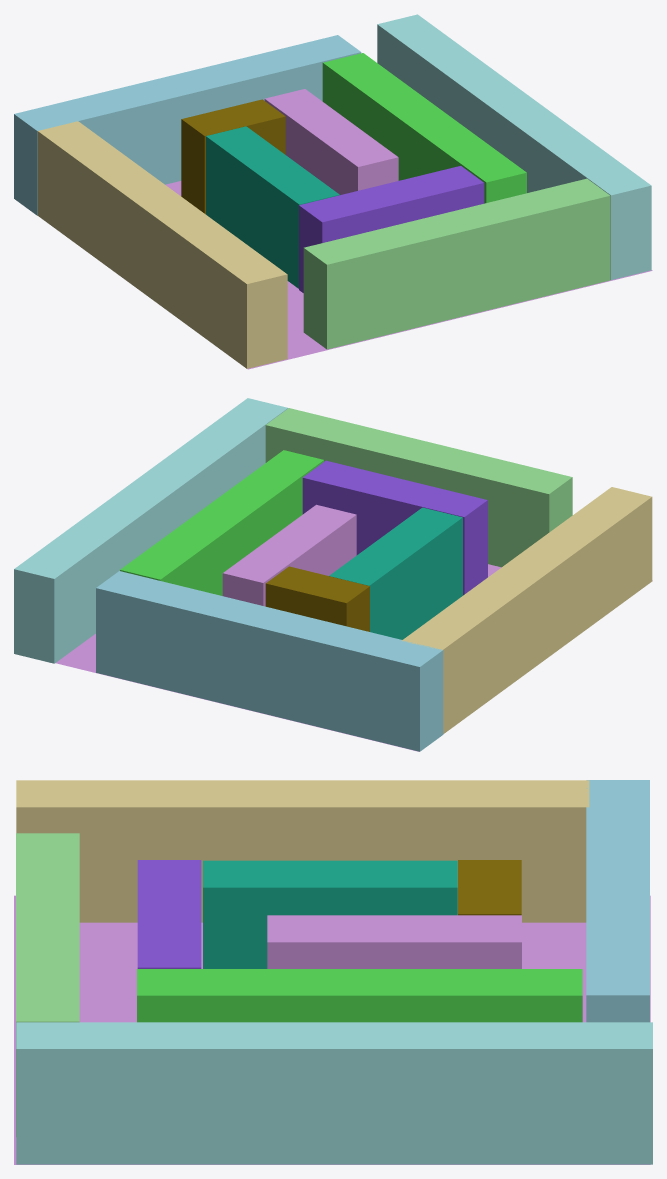
File: fullMaze.obj
3 views of the same model, one above another, from view 1: azimuth 30°, elevation 25°; view 2: azimuth 150°, elevation 25°; view 3: azimuth 270°, elevation 25° (orthographic). The views are drawn at different scales.
Visible parts, largest first — view 1: wallSouth, wallWest, wallEast, wallNorth, wallInner1, WallInner3, wallInner2, wallInner5, WallInner4, floor; view 2: wallNorth, wallWest, wallEast, wallSouth, wallInner1, WallInner3, wallInner2, wallInner5, WallInner4, floor; view 3: wallEast, wallWest, wallInner1, WallInner3, wallNorth, wallInner5, wallSouth, floor, wallInner2, WallInner4.
Part boxes in pixels (left/top/right/bottom): wallSouth: left=303, top=178, right=610, bottom=349; wallWest: left=37, top=121, right=287, bottom=368; wallEast: left=377, top=14, right=651, bottom=279; wallNorth: left=14, top=35, right=361, bottom=215; wallInner1: left=322, top=53, right=526, bottom=203; WallInner3: left=206, top=126, right=339, bottom=288; wallInner2: left=299, top=166, right=484, bottom=292; wallInner5: left=264, top=89, right=398, bottom=194; WallInner4: left=181, top=99, right=285, bottom=214; floor: left=165, top=181, right=652, bottom=369; wallNorth: left=96, top=571, right=443, bottom=751; wallWest: left=401, top=487, right=652, bottom=733; wallEast: left=14, top=398, right=288, bottom=663; wallSouth: left=265, top=408, right=572, bottom=567; wallInner1: left=120, top=450, right=323, bottom=595; WallInner3: left=329, top=507, right=462, bottom=639; wallInner2: left=302, top=460, right=487, bottom=595; wallInner5: left=222, top=504, right=356, bottom=606; WallInner4: left=265, top=566, right=369, bottom=631; floor: left=55, top=564, right=652, bottom=751; wallEast: left=16, top=1022, right=652, bottom=1164; wallWest: left=16, top=780, right=589, bottom=922; wallInner1: left=137, top=969, right=582, bottom=1022; WallInner3: left=203, top=860, right=457, bottom=968; wallNorth: left=586, top=780, right=649, bottom=1022; wallInner5: left=267, top=915, right=521, bottom=968; wallSouth: left=16, top=833, right=79, bottom=1136; floor: left=14, top=895, right=650, bottom=1164; wallInner2: left=137, top=860, right=201, bottom=968; WallInner4: left=458, top=860, right=521, bottom=915.
Bounding box in the file's own units: 50.06 × 10 × 50.18.
